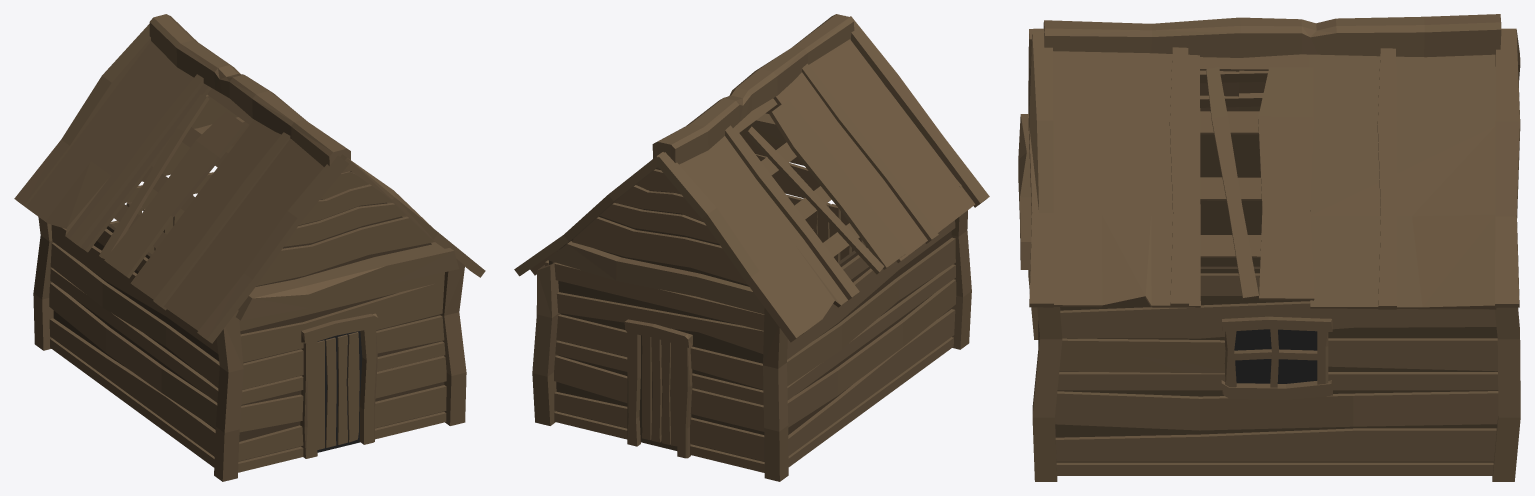
The model's file is hut.glb.
3 renders of one model, left to right at view 1: azimuth 30°, elevation 25°; view 2: azimuth 150°, elevation 25°; view 3: azimuth 270°, elevation 25°, orthographic. The views are drawn at different scales.
Parts seen in each view (by area): view 1: SM_Bld_Hut_01; view 2: SM_Bld_Hut_01; view 3: SM_Bld_Hut_01.
Boxes of the visible parts, x1=… form: SM_Bld_Hut_01: x1=14, y1=14, x2=485, y2=481; SM_Bld_Hut_01: x1=514, y1=14, x2=989, y2=481; SM_Bld_Hut_01: x1=1018, y1=14, x2=1520, y2=481.
Size of the model in its own units: 521 by 540 by 634.
1 material, 1 textured.
